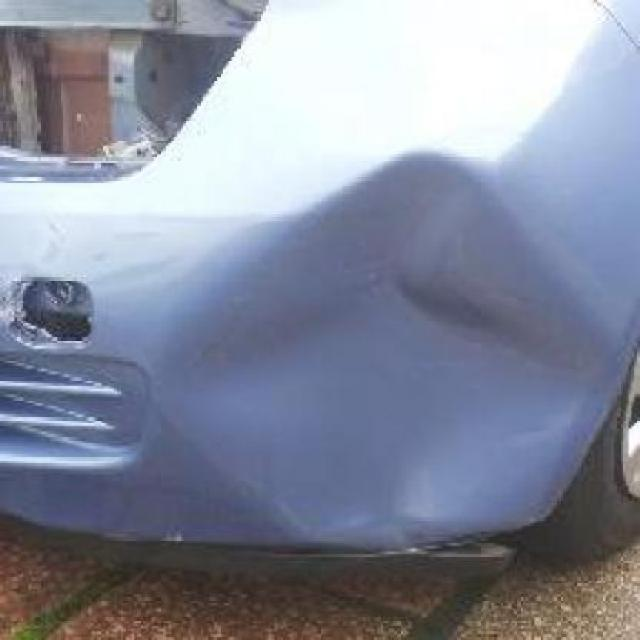dent-or-scratch: (176, 148, 578, 528)
